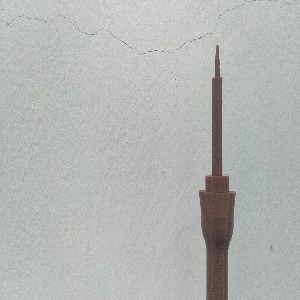solder: (198, 43, 238, 300)
